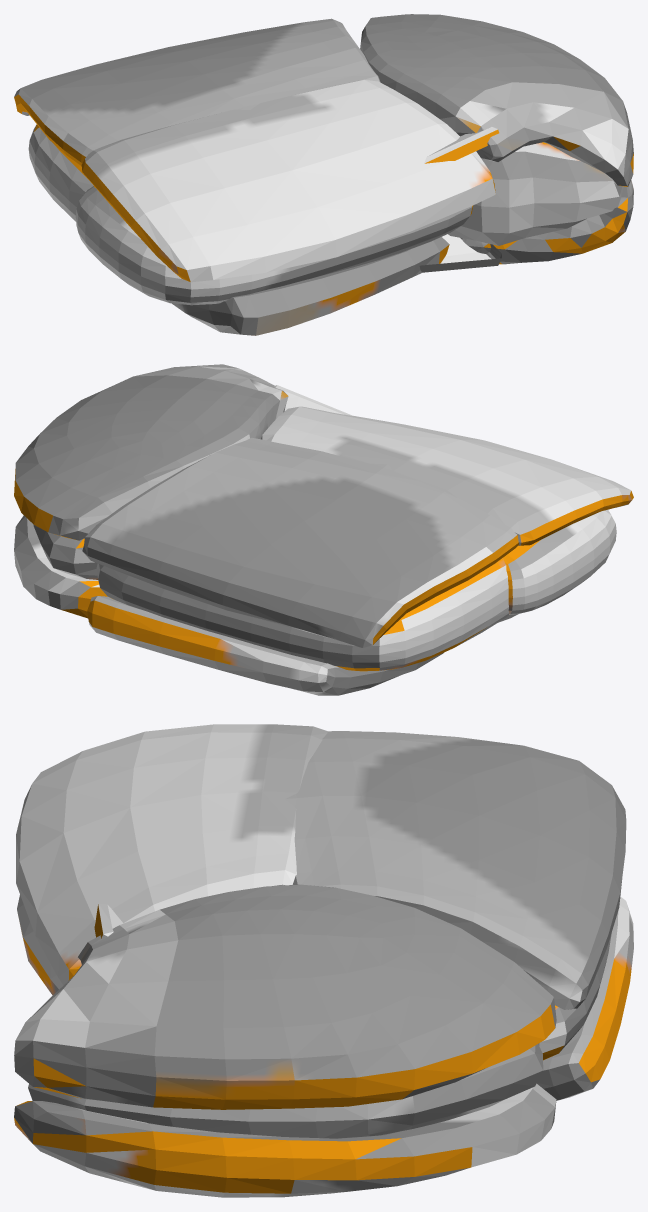
File: RightHand.obj
3 renders of one model, top to bottom at view 1: azimuth 30°, elevation 25°; view 2: azimuth 150°, elevation 25°; view 3: azimuth 270°, elevation 25°, orthographic. The views are drawn at different scales.
Visible parts, largest first — view 1: RightHand_Mesh.041; view 2: RightHand_Mesh.041; view 3: RightHand_Mesh.041.
Boxes of the visible parts, x1=… form: RightHand_Mesh.041: x1=14, y1=14, x2=633, y2=335; RightHand_Mesh.041: x1=14, y1=364, x2=633, y2=695; RightHand_Mesh.041: x1=14, y1=724, x2=633, y2=1197.
Size of the model in its own units: 0.1047 by 0.0357 by 0.0827.
1 material, 1 textured.
